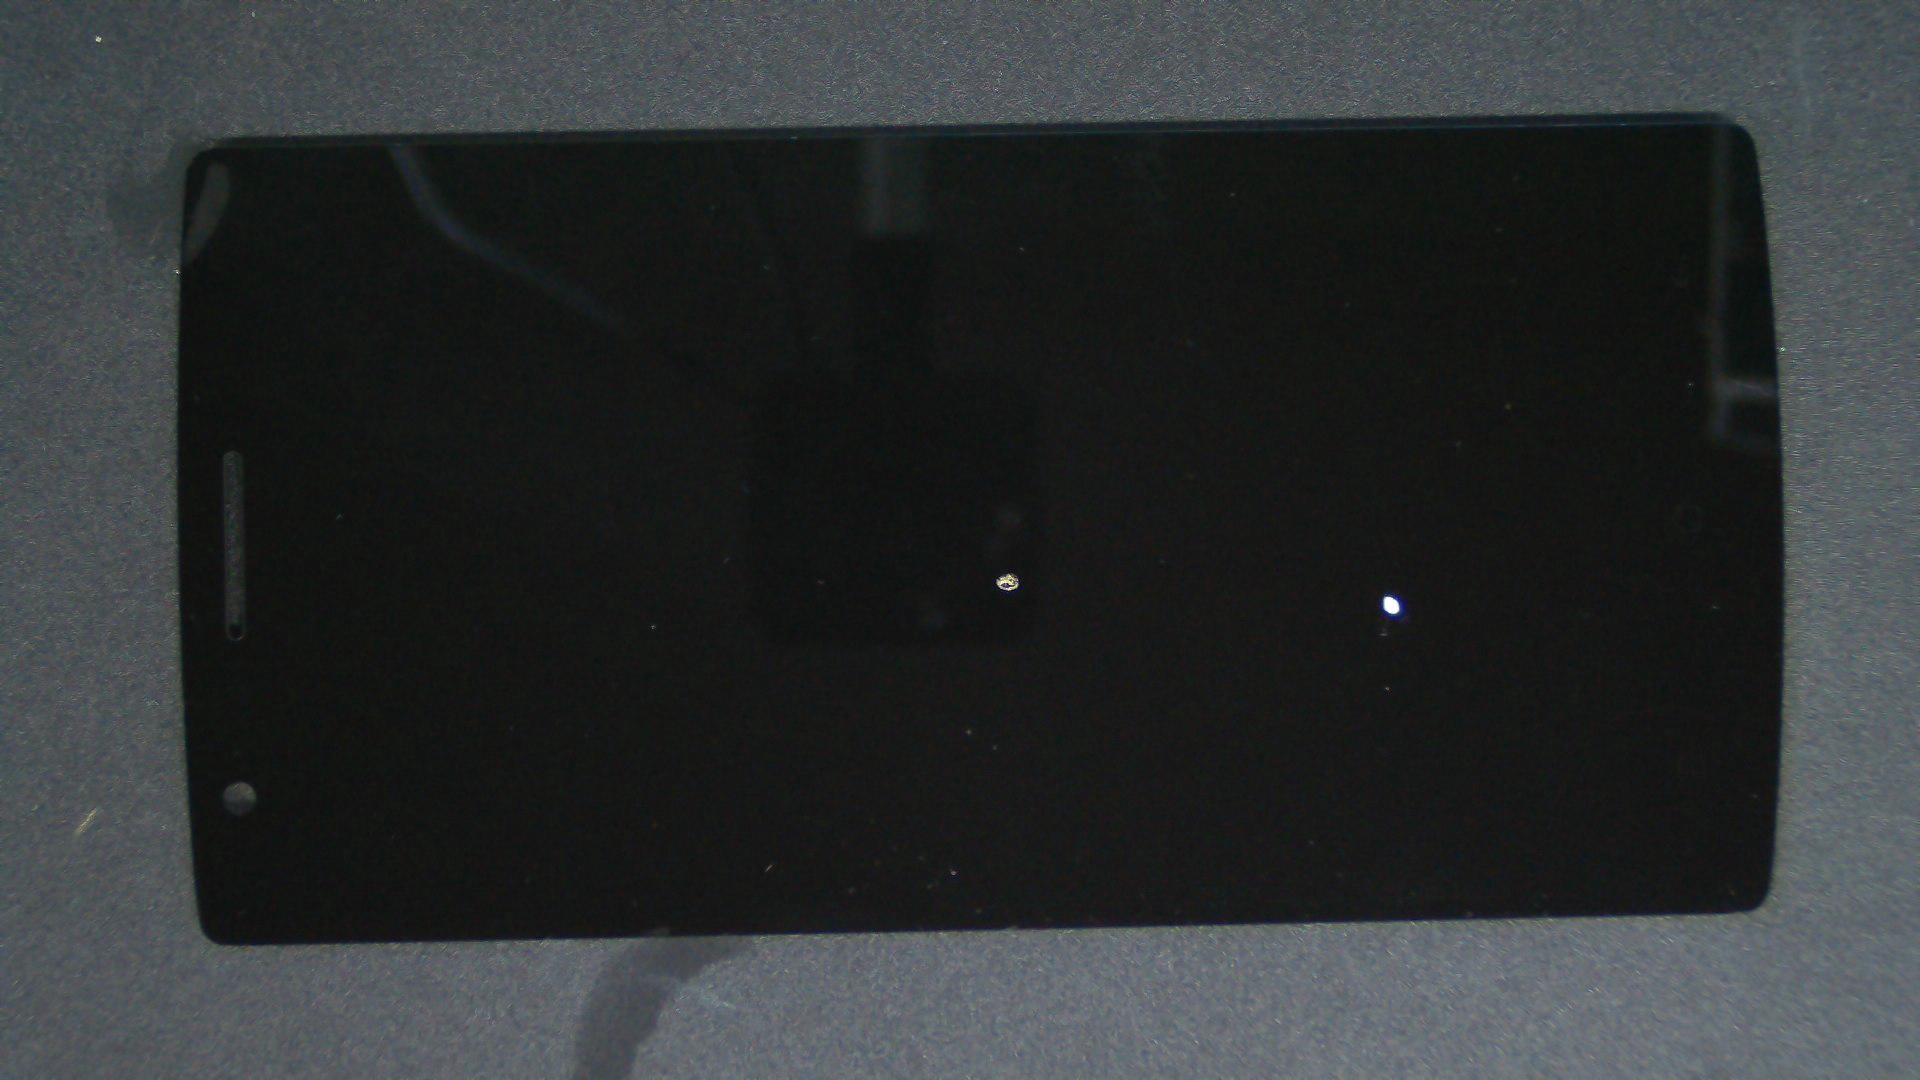defect: (994, 572, 1021, 592), (1381, 595, 1400, 616)
